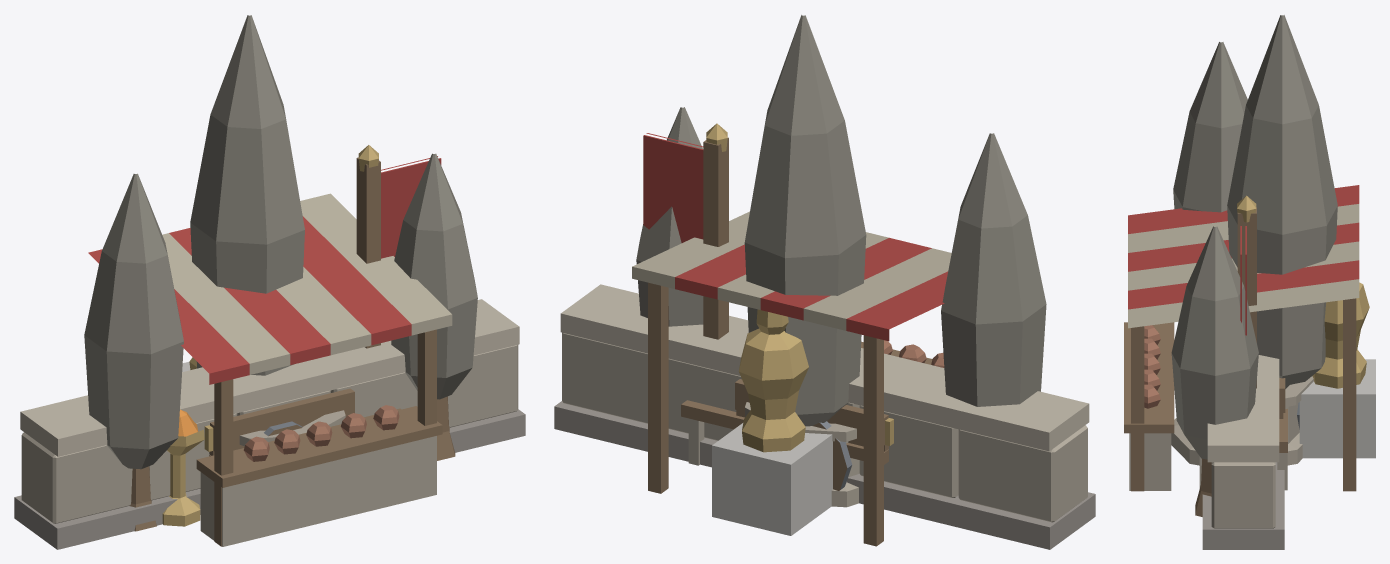
File: m2cx2_dressing.glb
3 views of the same model, side by side, from view 1: azimuth 30°, elevation 25°; view 2: azimuth 150°, elevation 25°; view 3: azimuth 270°, elevation 25° (orthographic). The views are drawn at different scales.
Visible parts, largest first — view 1: cypress_group, forum_stall, farm_boundary, waystation, farm_cart; view 2: cypress_group, farm_boundary, waystation, forum_stall, farm_cart; view 3: cypress_group, forum_stall, farm_boundary, waystation, farm_cart.
Part boxes in pixels (left/top/right/bottom): cypress_group: left=84, top=15, right=477, bottom=531; forum_stall: left=88, top=193, right=452, bottom=546; farm_boundary: left=14, top=299, right=525, bottom=549; waystation: left=162, top=145, right=441, bottom=526; farm_cart: left=204, top=388, right=401, bottom=456; cypress_group: left=636, top=15, right=1046, bottom=426; farm_boundary: left=554, top=284, right=1095, bottom=549; waystation: left=643, top=123, right=859, bottom=535; forum_stall: left=632, top=211, right=951, bottom=546; farm_cart: left=681, top=379, right=893, bottom=490; cypress_group: left=1171, top=15, right=1337, bottom=516; forum_stall: left=1124, top=185, right=1359, bottom=491; farm_boundary: left=1202, top=355, right=1284, bottom=549; waystation: left=1171, top=195, right=1375, bottom=465; farm_cart: left=1199, top=378, right=1299, bottom=490.
Size of what is drawn, in the model's own units: 6.9 by 6.3 by 3.37.
